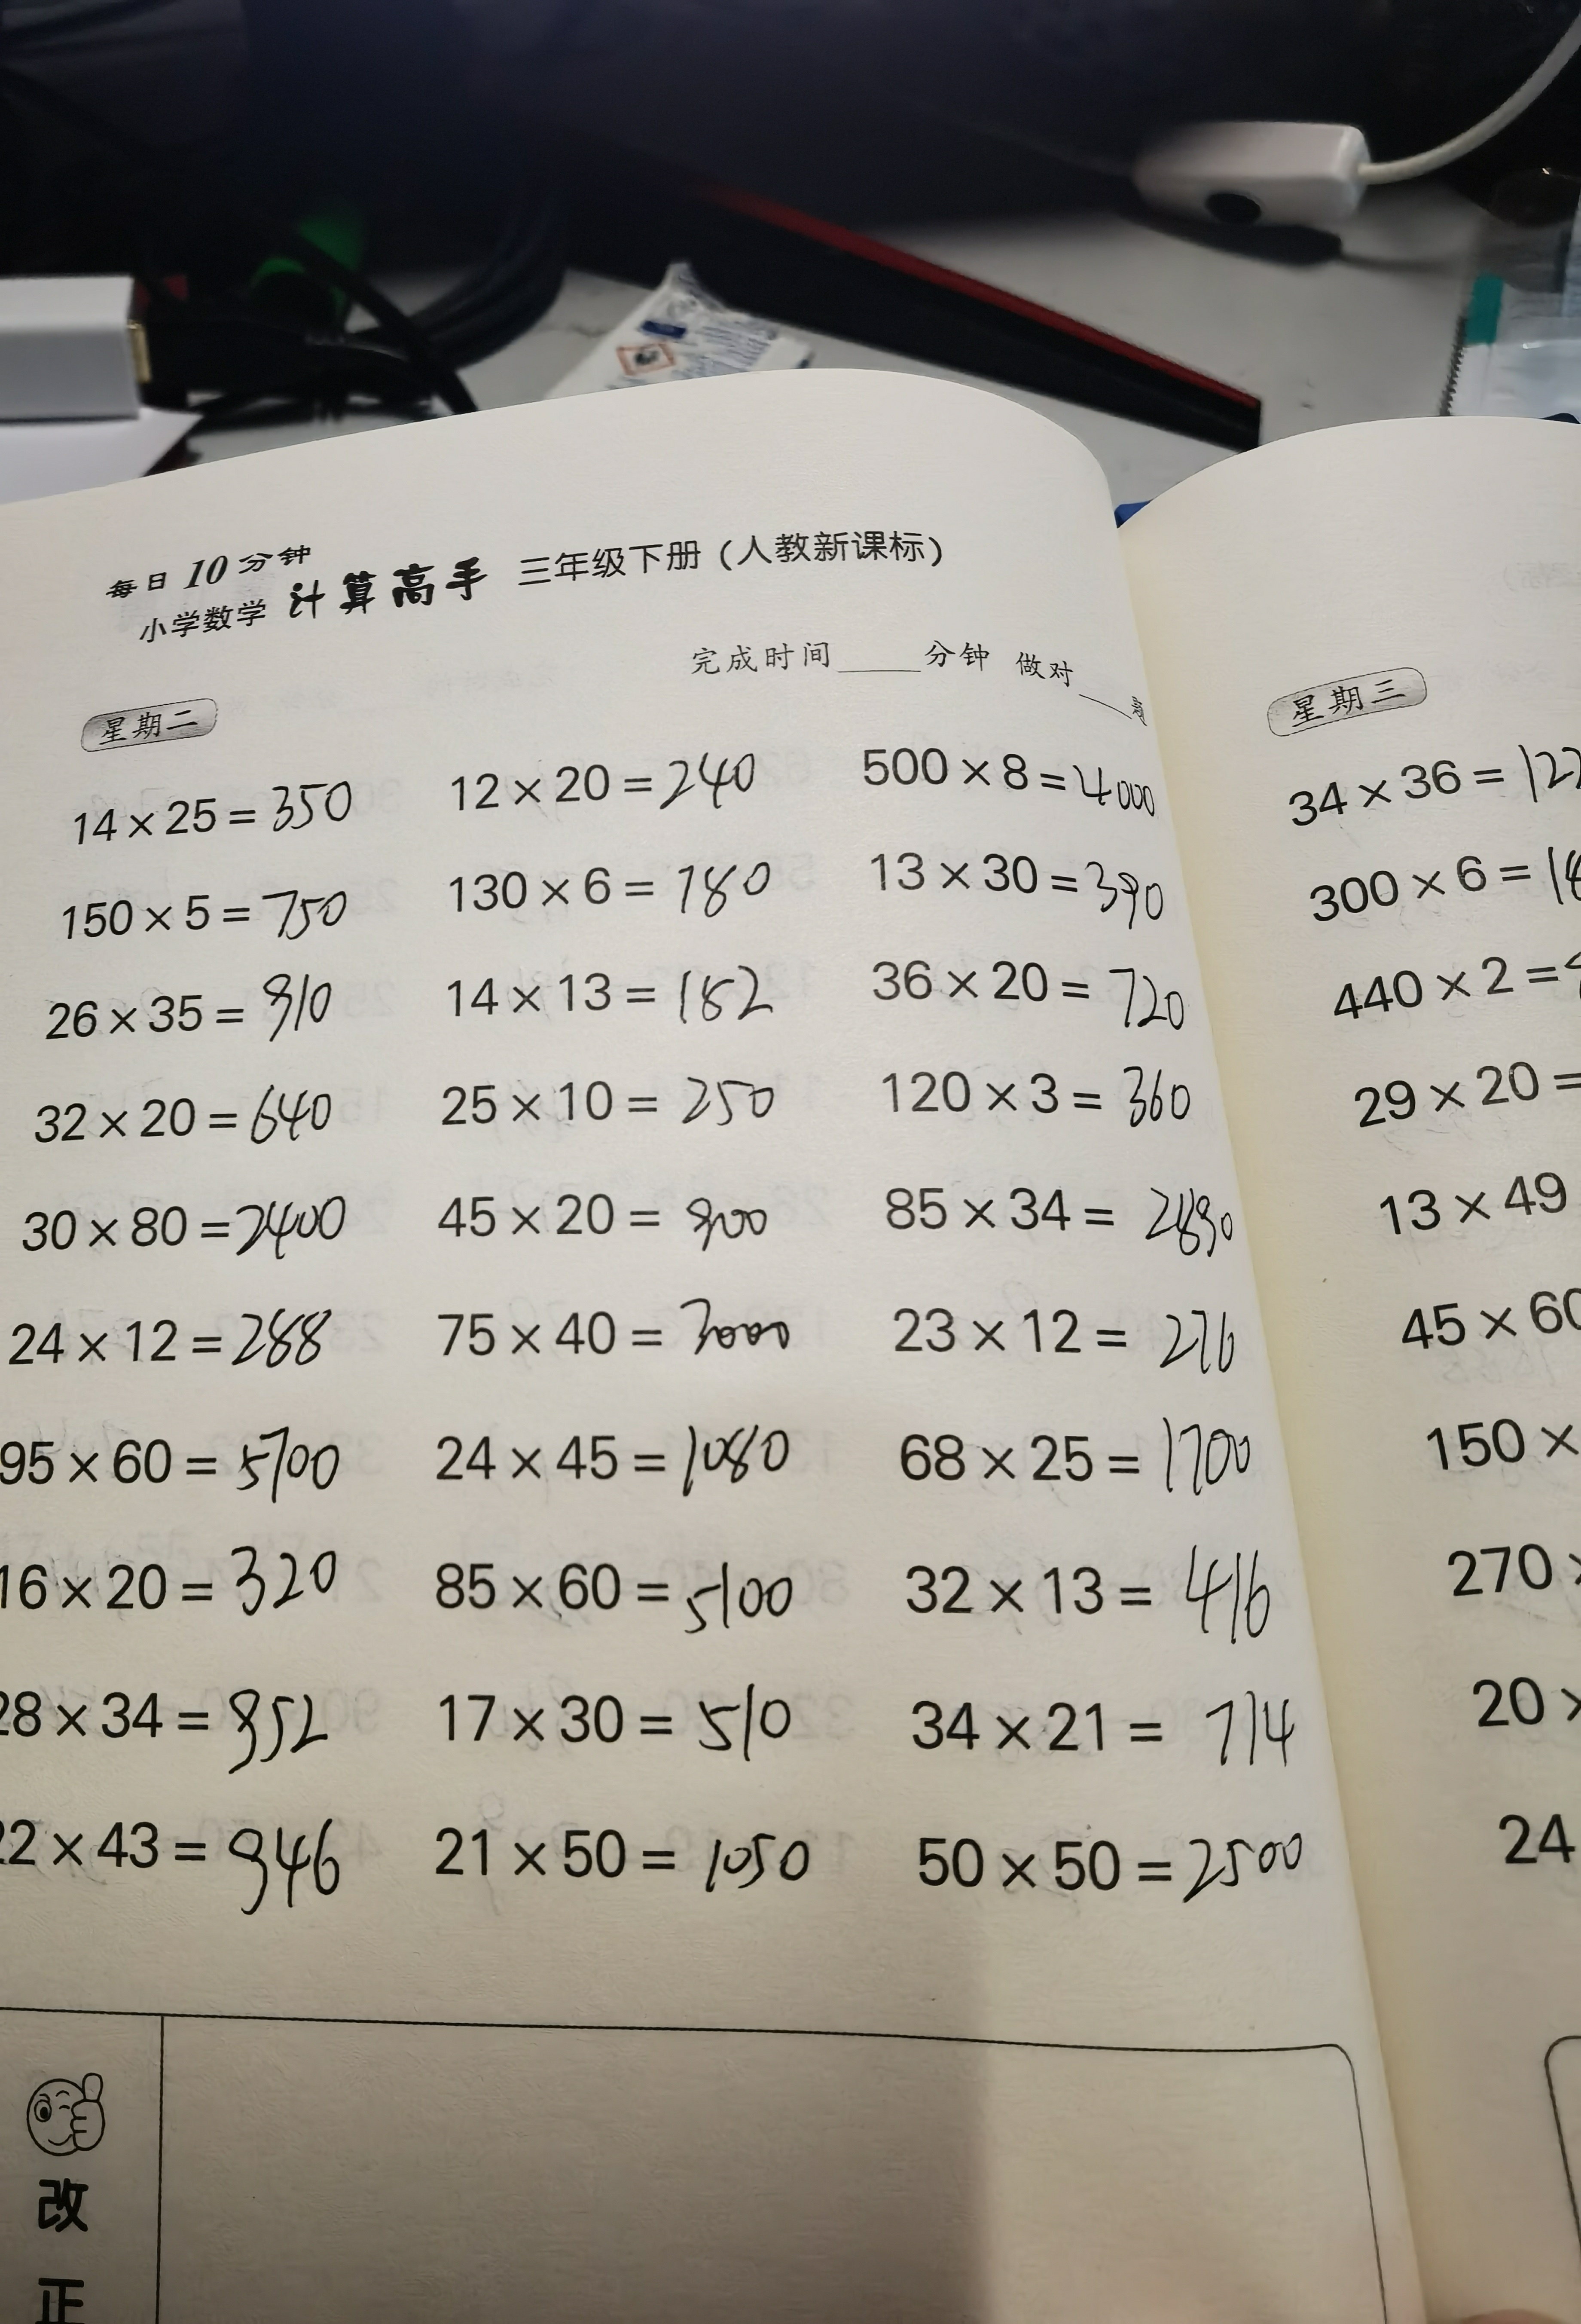equation: (907, 1509, 1323, 1646), (427, 1796, 854, 1930), (831, 685, 1189, 829), (900, 1666, 1306, 1791), (907, 1816, 1343, 1930), (4, 1802, 356, 1936), (877, 1147, 1239, 1272), (423, 1542, 824, 1653), (404, 1657, 810, 1759), (882, 1271, 1258, 1380), (416, 1405, 822, 1503), (858, 946, 1210, 1059), (873, 1048, 1223, 1161), (5, 1532, 367, 1638), (2, 1675, 356, 1779), (866, 829, 1195, 939), (434, 1292, 829, 1382), (12, 1290, 362, 1389), (896, 1408, 1263, 1502), (415, 1057, 792, 1147), (441, 842, 790, 935), (429, 1179, 794, 1267), (7, 1419, 372, 1503), (51, 761, 376, 851), (25, 1068, 355, 1156), (436, 734, 780, 817), (12, 1177, 362, 1256), (431, 960, 783, 1038), (46, 879, 351, 953), (35, 967, 344, 1039)
